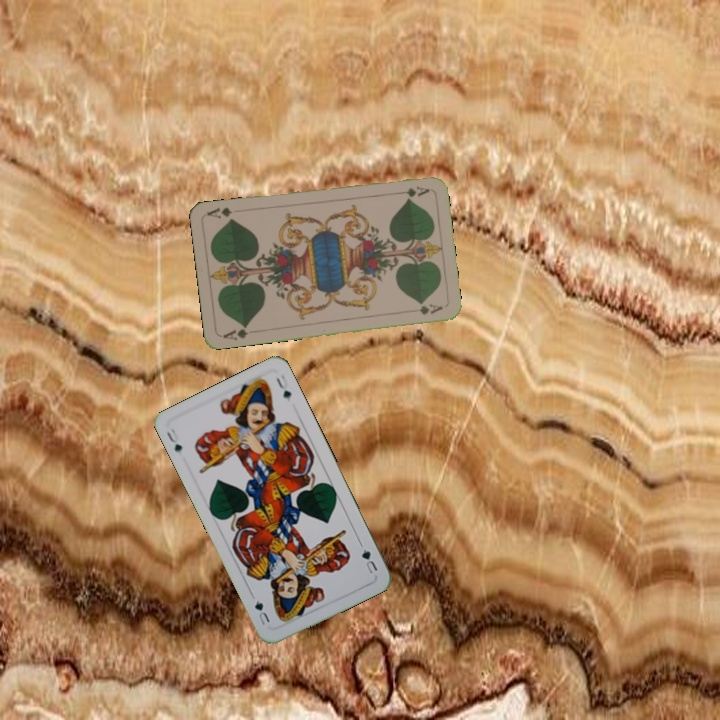GA: (219, 321, 259, 343), (391, 182, 432, 199)
GU: (162, 425, 185, 456), (358, 545, 380, 576)
